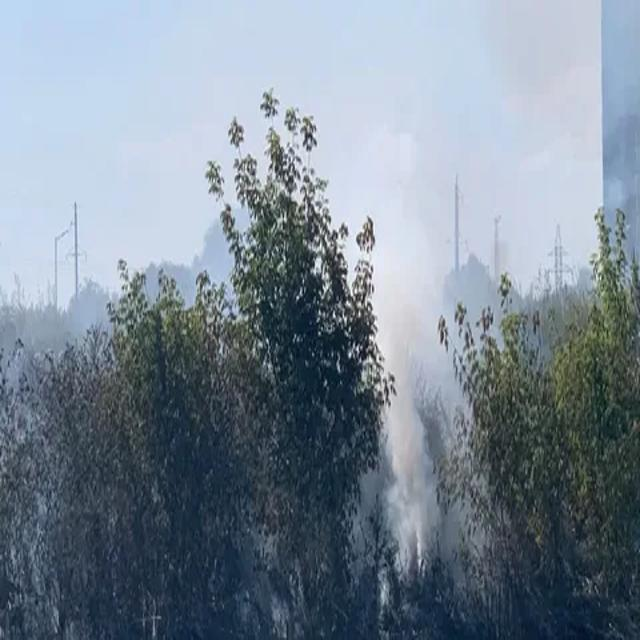Smoke: (342, 150, 483, 552)
